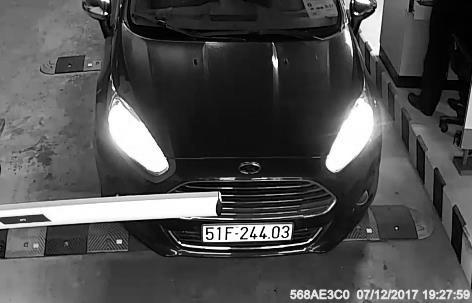License-plate: (201, 220, 310, 250)
